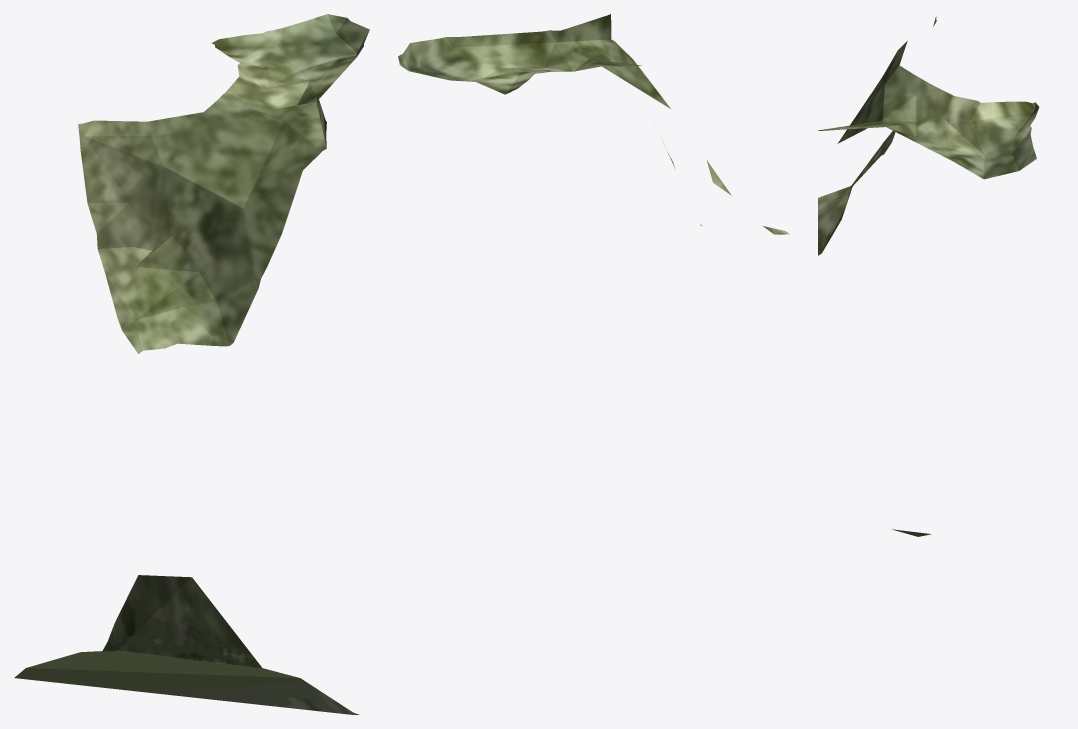
The picture shows the model from 3 angles, left to right: view 1: azimuth 30°, elevation 25°; view 2: azimuth 150°, elevation 25°; view 3: azimuth 270°, elevation 25°; orthographic projection. The views are drawn at different scales.
Size of the model in its own units: 1.62 by 2.95 by 1.11.
1 material, 1 textured.
